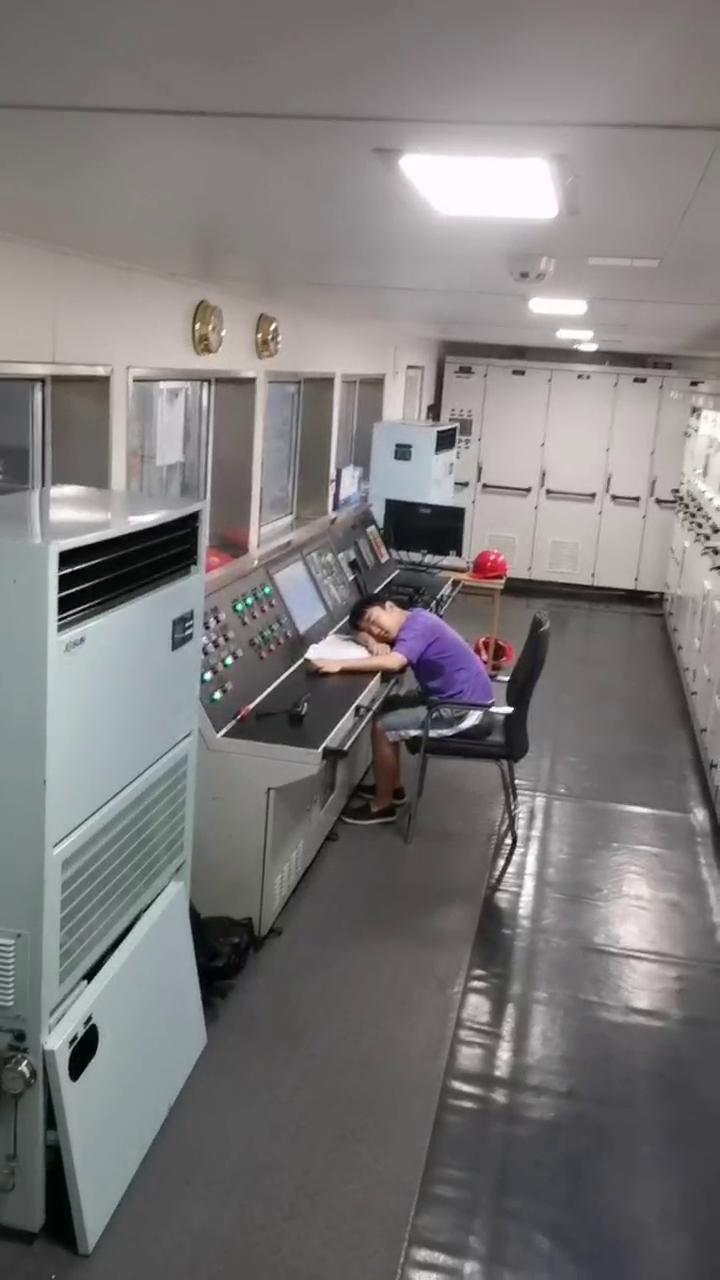sleep: (305, 600, 505, 734)
